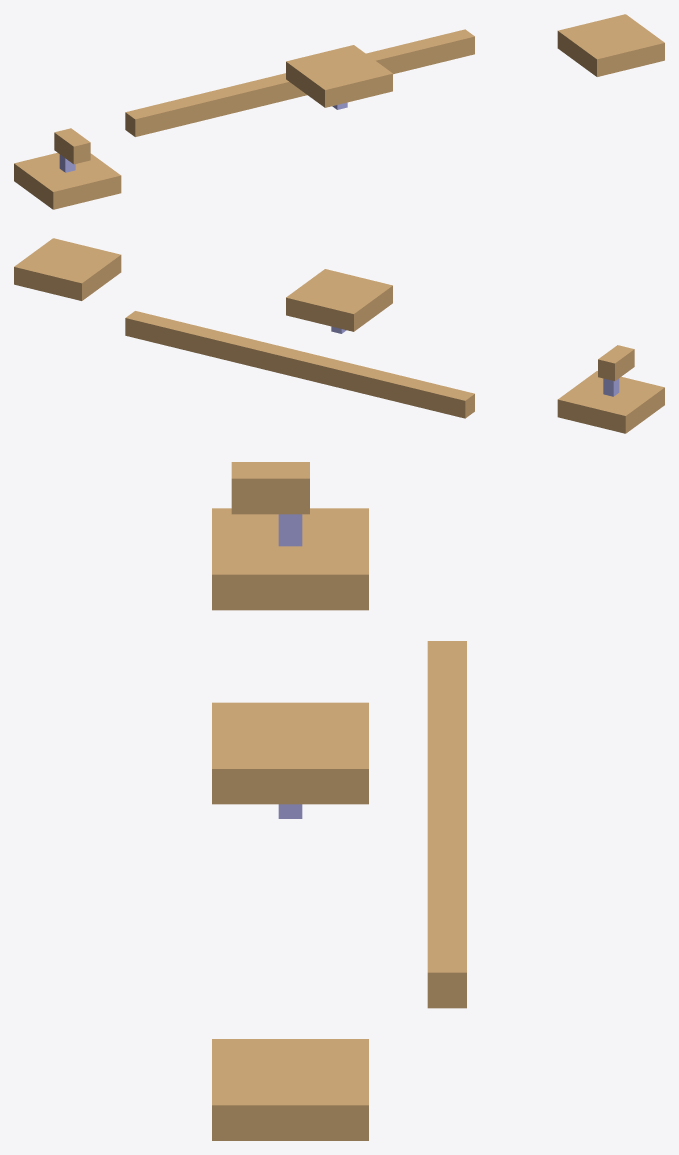
File: board.glb
3 renders of one model, top to bottom at view 1: azimuth 30°, elevation 25°; view 2: azimuth 150°, elevation 25°; view 3: azimuth 270°, elevation 25°, orthographic. The views are drawn at different scales.
Parts seen in each view (by area): view 1: Copper_Net1_Contour0, Copper_Net0_Contour0, Copper_Net2_Contour0, Copper_Net1_Contour1; view 2: Copper_Net0_Contour0, Copper_Net1_Contour0, Copper_Net2_Contour0, Copper_Net1_Contour1; view 3: Copper_Net1_Contour0, Copper_Net2_Contour0, Copper_Net0_Contour0, Copper_Net1_Contour1.
Boxes of the visible parts, left/top/right/bottom form: Copper_Net1_Contour0: left=14, top=45, right=392, bottom=209; Copper_Net0_Contour0: left=125, top=29, right=474, bottom=136; Copper_Net2_Contour0: left=557, top=14, right=664, bottom=76; Copper_Net1_Contour1: left=54, top=128, right=90, bottom=164; Copper_Net0_Contour0: left=125, top=311, right=474, bottom=418; Copper_Net1_Contour0: left=286, top=269, right=664, bottom=433; Copper_Net2_Contour0: left=14, top=238, right=121, bottom=300; Copper_Net1_Contour1: left=598, top=345, right=634, bottom=381; Copper_Net1_Contour0: left=212, top=508, right=368, bottom=804; Copper_Net2_Contour0: left=212, top=1039, right=368, bottom=1140; Copper_Net0_Contour0: left=427, top=641, right=466, bottom=1008; Copper_Net1_Contour1: left=231, top=462, right=309, bottom=514.
Bounding box in the file's own units: 1.8e-05 × 1.5e-06 × 3.25e-06.
